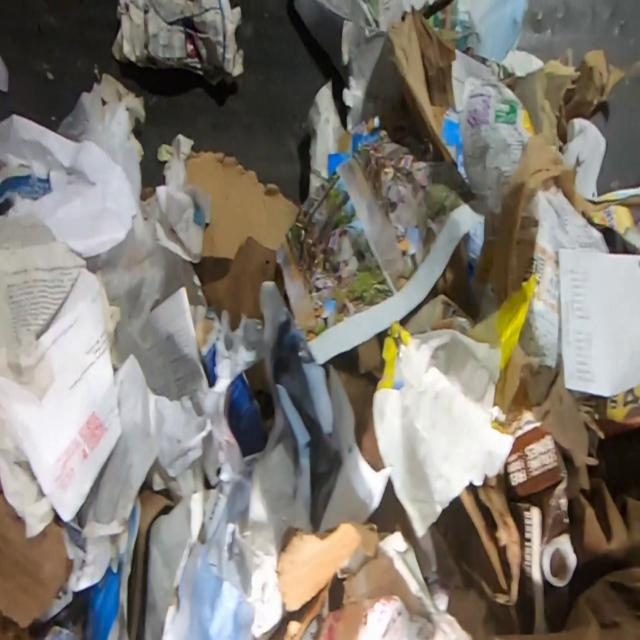cardboard: (464, 47, 640, 320), (184, 148, 300, 330), (41, 486, 178, 640), (385, 9, 472, 187), (266, 518, 380, 640), (0, 489, 75, 640), (110, 0, 244, 83), (506, 426, 559, 496)
soft_plastic: (371, 335, 515, 538), (105, 234, 179, 397), (539, 449, 577, 587)
